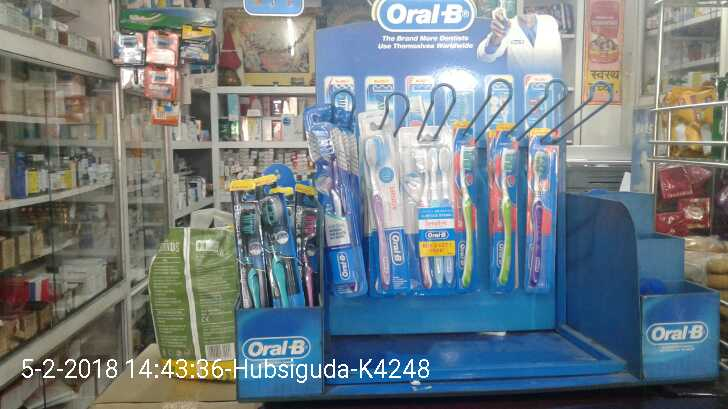oralb: (304, 112, 364, 296), (398, 128, 458, 296), (359, 110, 401, 299), (451, 124, 482, 292), (488, 123, 518, 294), (529, 128, 556, 291)
